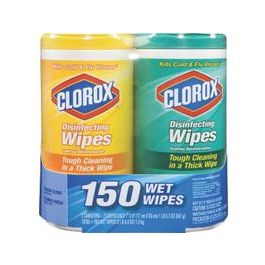Wipes: (36, 29, 136, 235), (135, 30, 231, 236)
